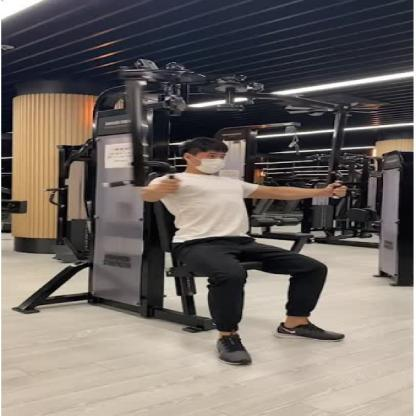chest fly machine: (13, 32, 381, 383)
